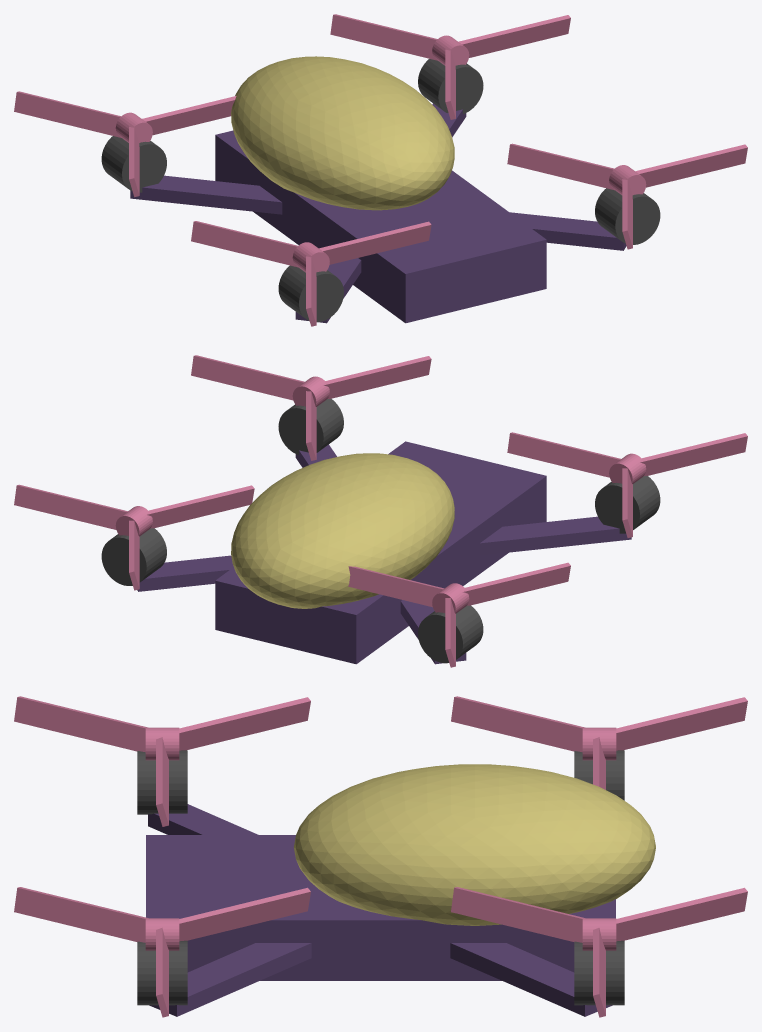
The model's file is Ossa.glb.
The picture shows the model from 3 angles, top to bottom: view 1: azimuth 30°, elevation 25°; view 2: azimuth 150°, elevation 25°; view 3: azimuth 270°, elevation 25°; orthographic projection. The views are drawn at different scales.
Visible parts, largest first — view 1: canopy, frame_body, prop_2, prop_0, prop_1, prop_3, arm_3, arm_0, motor_2, motor_0, motor_1, motor_3 (+1 smaller); view 2: canopy, frame_body, prop_0, prop_1, prop_2, prop_3, arm_2, motor_1, motor_3, motor_0, motor_2, arm_1 (+1 smaller); view 3: canopy, frame_body, prop_2, prop_1, prop_0, prop_3, arm_1, arm_0, motor_0, motor_1, motor_2, arm_2 (+1 smaller).
Part boxes in pixels (left/top/right/bottom): canopy: left=231, top=56, right=454, bottom=210; frame_body: left=215, top=130, right=546, bottom=323; prop_2: left=191, top=221, right=431, bottom=326; prop_0: left=507, top=143, right=747, bottom=249; prop_1: left=330, top=14, right=570, bottom=119; prop_3: left=14, top=91, right=236, bottom=197; arm_3: left=130, top=175, right=282, bottom=214; arm_0: left=510, top=212, right=626, bottom=250; motor_2: left=278, top=265, right=343, bottom=322; motor_0: left=595, top=188, right=660, bottom=244; motor_1: left=418, top=59, right=483, bottom=113; motor_3: left=101, top=136, right=166, bottom=192; canopy: left=231, top=453, right=454, bottom=608; frame_body: left=215, top=441, right=546, bottom=664; prop_0: left=191, top=355, right=431, bottom=460; prop_1: left=14, top=484, right=254, bottom=590; prop_2: left=507, top=432, right=747, bottom=537; prop_3: left=348, top=562, right=570, bottom=667; arm_2: left=479, top=516, right=631, bottom=555; motor_1: left=101, top=528, right=166, bottom=585; motor_3: left=418, top=605, right=483, bottom=663; motor_0: left=278, top=398, right=343, bottom=454; motor_2: left=595, top=476, right=660, bottom=533; arm_1: left=137, top=555, right=233, bottom=591; canopy: left=293, top=764, right=655, bottom=925; frame_body: left=146, top=835, right=615, bottom=980; prop_2: left=14, top=696, right=310, bottom=826; prop_1: left=451, top=887, right=747, bottom=1017; prop_0: left=14, top=887, right=310, bottom=1017; prop_3: left=451, top=696, right=747, bottom=789; arm_1: left=450, top=943, right=612, bottom=1016; arm_0: left=149, top=943, right=311, bottom=1016; motor_0: left=137, top=940, right=187, bottom=1005; motor_1: left=574, top=940, right=624, bottom=1005; motor_2: left=137, top=750, right=187, bottom=814; arm_2: left=148, top=804, right=258, bottom=834.
Size of the model in its own units: 0.2111 by 0.0516 by 0.2187.
